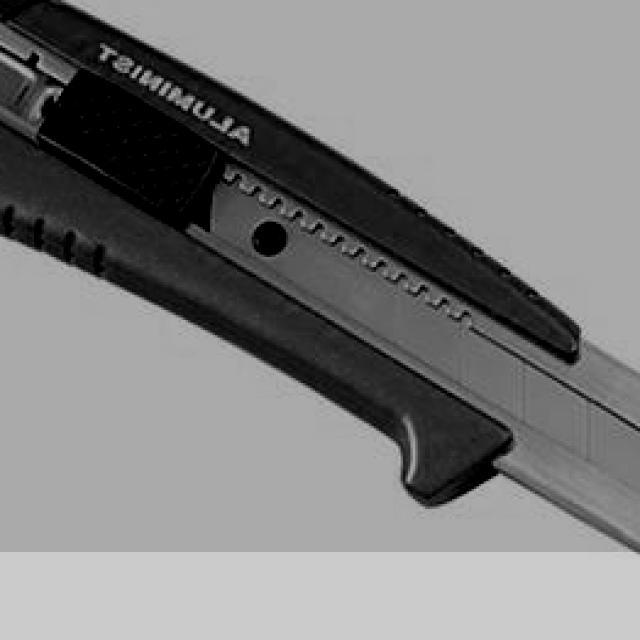estilete: (0, 0, 640, 552)
